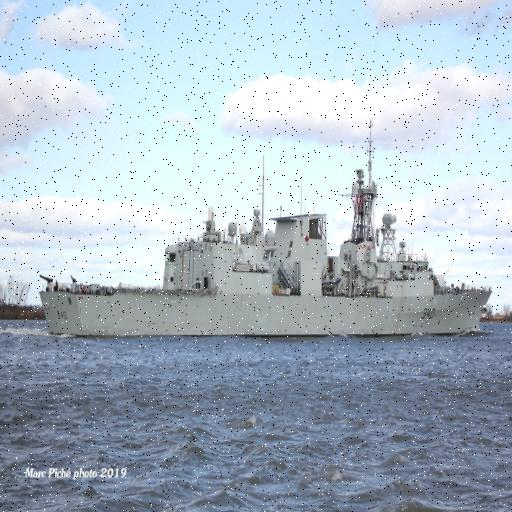Fragata: (38, 121, 496, 342)
